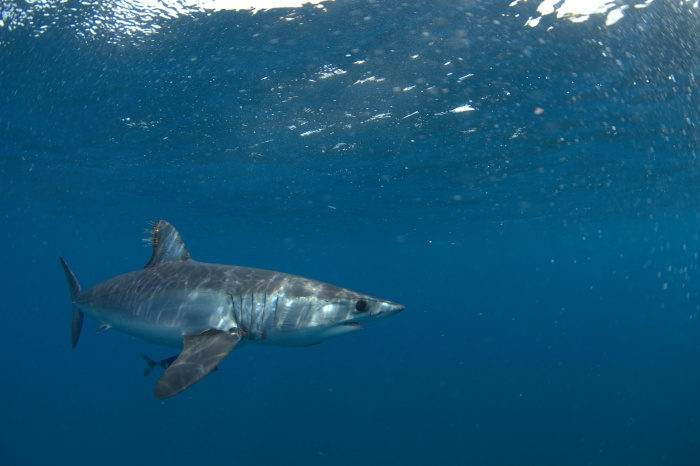Mako: (48, 217, 417, 418)
